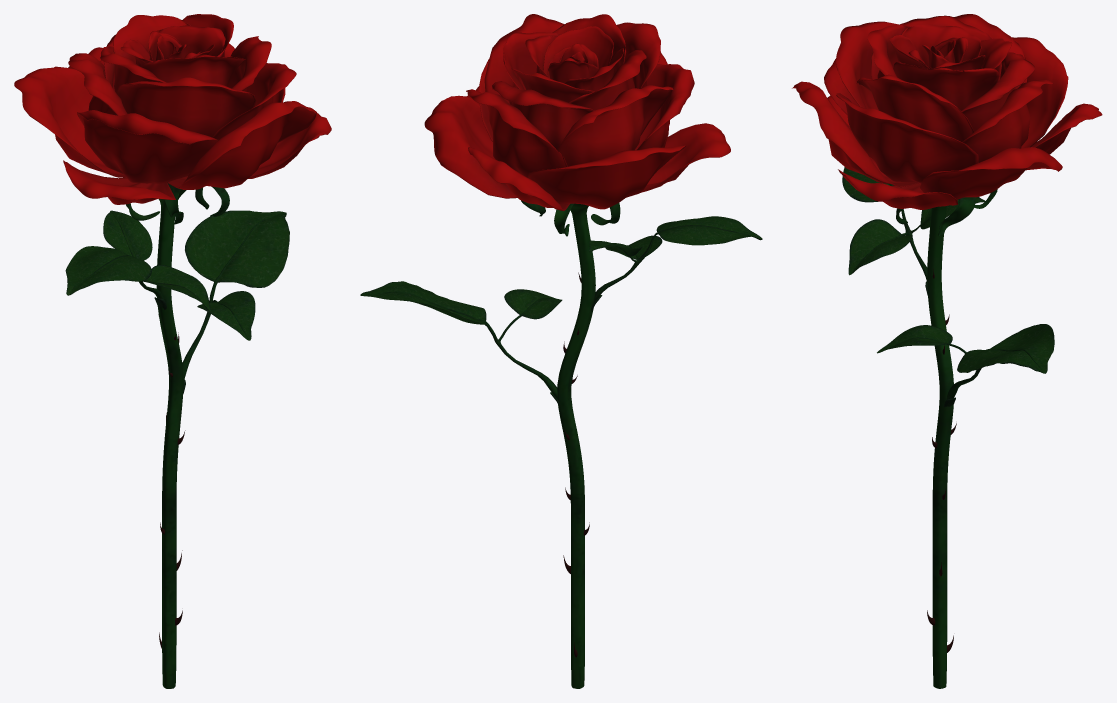
Rendered from rose-heliona-web.glb.
The picture shows the model from 3 angles, left to right: view 1: azimuth 30°, elevation 25°; view 2: azimuth 150°, elevation 25°; view 3: azimuth 270°, elevation 25°; orthographic projection.
Size of the model in its own units: 0.5263 by 1.05 by 0.4518.
Materials: 4 (4 with a texture image).
